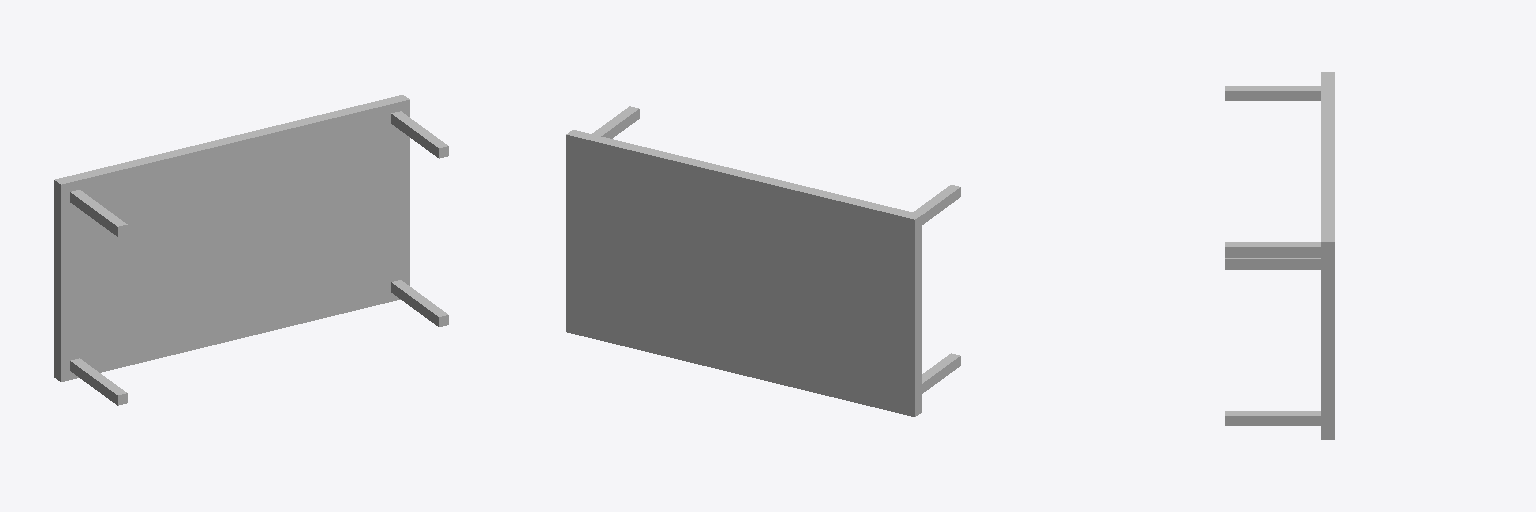
The model's file is random_table99.obj.
3 renders of one model, left to right at view 1: azimuth 30°, elevation 25°; view 2: azimuth 150°, elevation 25°; view 3: azimuth 270°, elevation 25°, orthographic.
Visible parts, largest first — view 1: Table_Cube.1560, TableLeg0_Cube.1561, TableLeg2_Cube.1563, TableLeg1_Cube.1562, TableLeg3_Cube.1564; view 2: Table_Cube.1560, TableLeg1_Cube.1562, TableLeg3_Cube.1564, TableLeg0_Cube.1561; view 3: Table_Cube.1560, TableLeg0_Cube.1561, TableLeg1_Cube.1562, TableLeg2_Cube.1563, TableLeg3_Cube.1564.
Boxes of the visible parts, box(x1,y1,x2,y2) form: Table_Cube.1560: box(54, 95, 409, 381); TableLeg0_Cube.1561: box(391, 111, 448, 158); TableLeg2_Cube.1563: box(391, 280, 448, 326); TableLeg1_Cube.1562: box(70, 190, 127, 236); TableLeg3_Cube.1564: box(70, 358, 127, 405); Table_Cube.1560: box(566, 130, 921, 416); TableLeg1_Cube.1562: box(913, 185, 960, 224); TableLeg3_Cube.1564: box(922, 353, 960, 393); TableLeg0_Cube.1561: box(592, 106, 639, 138); Table_Cube.1560: box(1321, 72, 1334, 439); TableLeg0_Cube.1561: box(1225, 242, 1320, 257); TableLeg1_Cube.1562: box(1225, 86, 1320, 100); TableLeg2_Cube.1563: box(1225, 411, 1320, 425); TableLeg3_Cube.1564: box(1225, 258, 1320, 269).
Bounding box in the file's own units: 13.72 × 7.43 × 3.72.